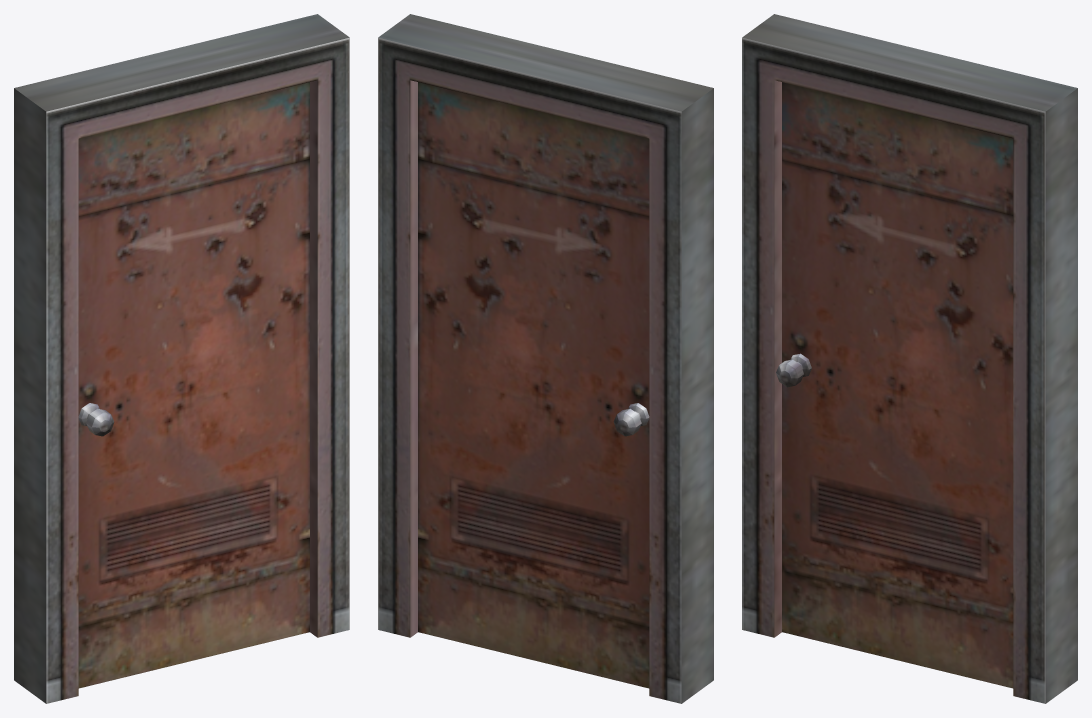
The model's file is Porte4.glb.
3 views of the same model, side by side, from view 1: azimuth 30°, elevation 25°; view 2: azimuth 150°, elevation 25°; view 3: azimuth 330°, elevation 25° (orthographic).
Visible parts, largest first — view 1: Porte4; view 2: Porte4; view 3: Porte4.
Part boxes in pixels (left/top/right/bottom): Porte4: left=14, top=14, right=349, bottom=703; Porte4: left=378, top=14, right=713, bottom=703; Porte4: left=742, top=14, right=1077, bottom=703.
Size of the model in its own units: 1.07 by 2 by 0.2927.
1 material, 1 textured.
